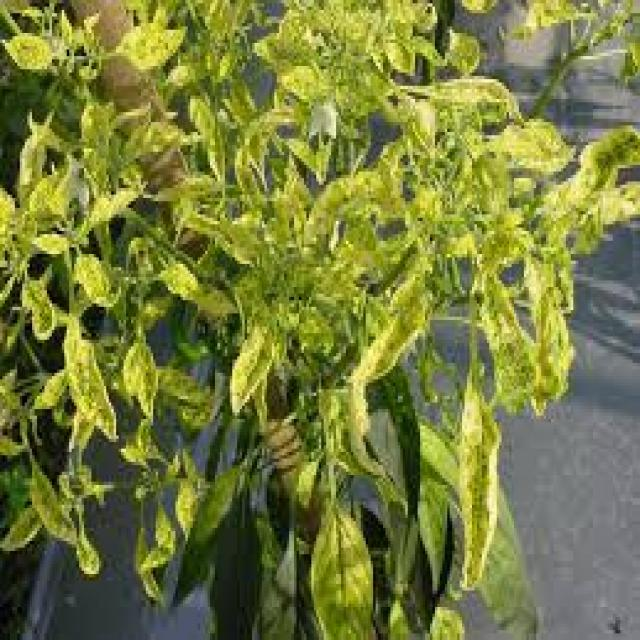virus_kuning: (451, 364, 504, 590), (304, 503, 376, 640), (67, 317, 119, 457), (121, 328, 167, 426), (122, 18, 190, 76)
